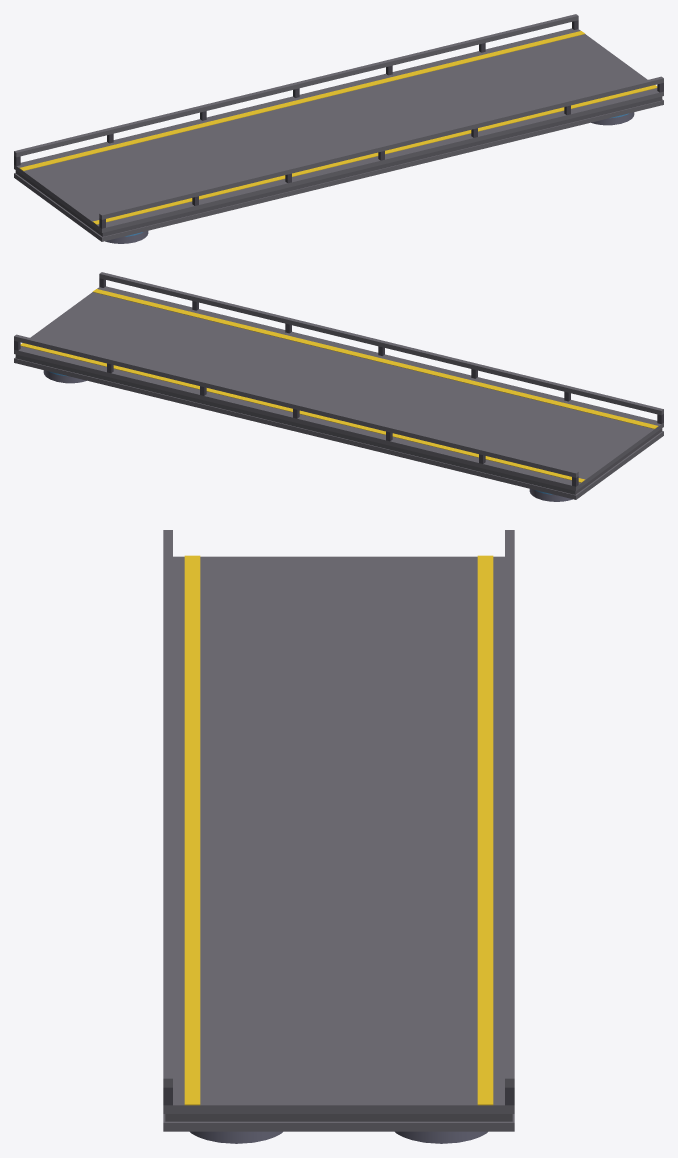
File: KneecapsStage MainPlatform.fbx
3 views of the same model, one above another, from view 1: azimuth 30°, elevation 25°; view 2: azimuth 150°, elevation 25°; view 3: azimuth 270°, elevation 25° (orthographic). The views are drawn at different scales.
Visible parts, largest first — view 1: KneecapsStage MainPlatform; view 2: KneecapsStage MainPlatform; view 3: KneecapsStage MainPlatform.
Boxes of the visible parts, x1,y1,x2,y2 form: KneecapsStage MainPlatform: [14, 14, 663, 243]; KneecapsStage MainPlatform: [14, 272, 663, 501]; KneecapsStage MainPlatform: [163, 530, 514, 1143].
Size of the model in its own units: 6650 by 450 by 1800.
